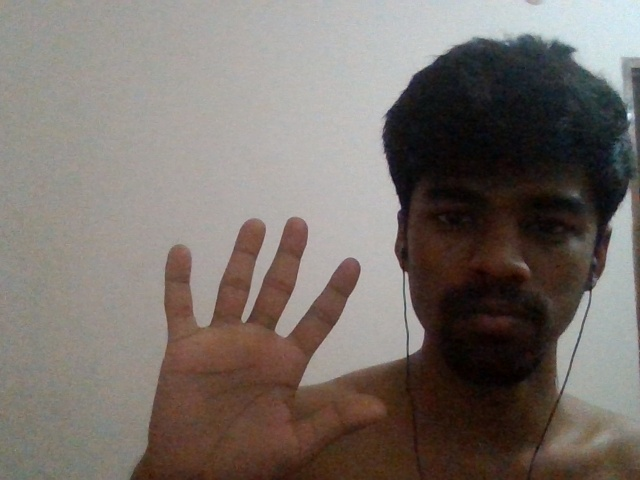Hello: (142, 210, 393, 460)
